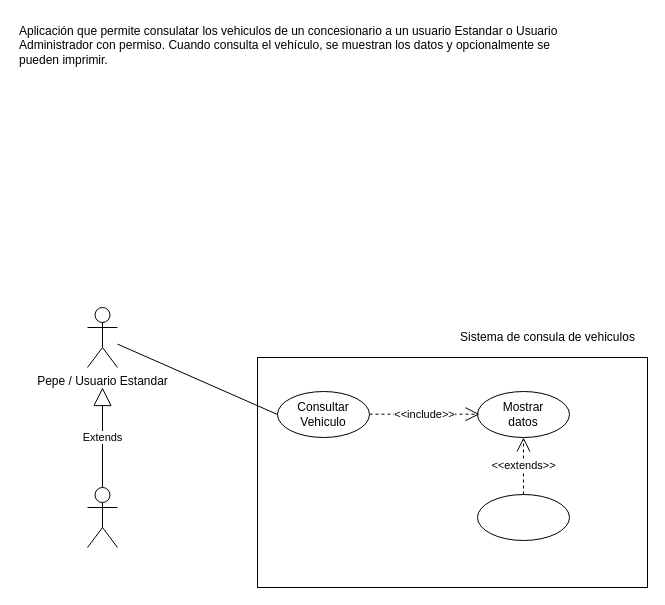
The diagram is 665 pixels wide and 605 high, and some of its shapes have lost their labels. The centre of each missing label's shape, as x and y in pixels:
Imprimir datos: the point at 523,517
Manolo / Usuario Admin: the point at 102,517
